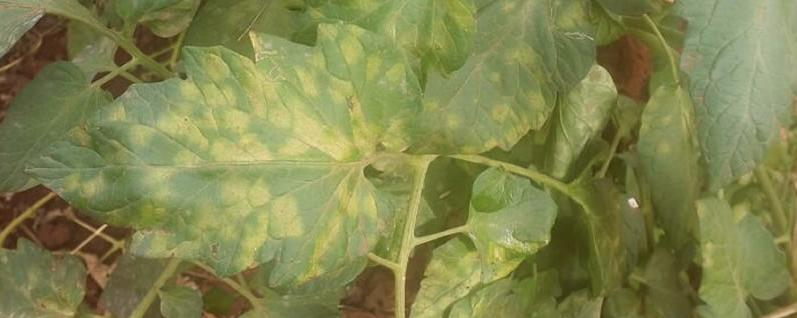Tomato mold leaf: (34, 20, 404, 292), (407, 0, 602, 155), (670, 0, 797, 193), (307, 0, 465, 94), (696, 200, 789, 318)
